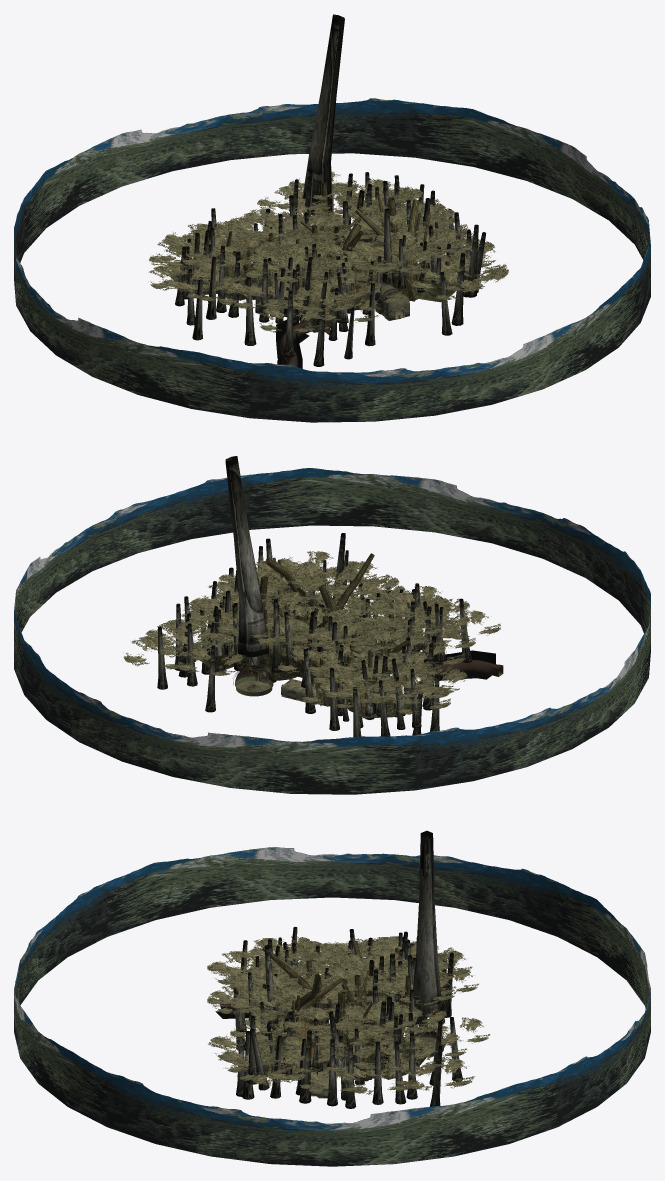
3 views of the same model, one above another, from view 1: azimuth 30°, elevation 25°; view 2: azimuth 150°, elevation 25°; view 3: azimuth 270°, elevation 25° (orthographic).
Visible parts, largest first — view 1: Chunk-39_Mesh-0, Object-94_Mesh-0, Chunk-12_Mesh-0, Chunk-14_Mesh-0, Chunk-15_Mesh-0, Chunk-63_Mesh-0, Object-128_Mesh-0, Object-168_Mesh-0; view 2: Chunk-39_Mesh-0, Object-94_Mesh-0, Chunk-12_Mesh-0, Chunk-14_Mesh-0, Object-218_Mesh-0, Chunk-15_Mesh-0, Object-208_Mesh-0, Object-161_Mesh-0, Object-217_Mesh-0, Chunk-63_Mesh-0, Object-169_Mesh-0, Chunk-22_Mesh-0 (+7 smaller); view 3: Chunk-39_Mesh-0, Object-94_Mesh-0, Chunk-12_Mesh-0, Object-208_Mesh-0, Chunk-14_Mesh-0, Chunk-15_Mesh-0, Object-210_Mesh-0, Object-128_Mesh-0, Object-155_Mesh-0, Object-217_Mesh-0, Object-161_Mesh-0, Object-122_Mesh-0 (+6 smaller).
Part boxes in pixels (<box>): Chunk-39_Mesh-0: <box>14,98,650,422</box>; Object-94_Mesh-0: <box>301,14,344,215</box>; Chunk-12_Mesh-0: <box>225,181,430,308</box>; Chunk-14_Mesh-0: <box>225,225,419,332</box>; Chunk-15_Mesh-0: <box>169,219,458,308</box>; Chunk-63_Mesh-0: <box>276,315,309,368</box>; Object-128_Mesh-0: <box>391,229,450,256</box>; Object-168_Mesh-0: <box>258,307,318,332</box>; Chunk-39_Mesh-0: <box>14,468,650,794</box>; Object-94_Mesh-0: <box>225,456,268,657</box>; Chunk-12_Mesh-0: <box>260,553,409,694</box>; Chunk-14_Mesh-0: <box>244,612,402,711</box>; Object-218_Mesh-0: <box>284,561,354,609</box>; Chunk-15_Mesh-0: <box>194,596,420,718</box>; Object-208_Mesh-0: <box>123,636,201,669</box>; Object-161_Mesh-0: <box>178,648,242,675</box>; Object-217_Mesh-0: <box>259,571,328,600</box>; Chunk-63_Mesh-0: <box>416,650,495,680</box>; Object-169_Mesh-0: <box>384,592,448,619</box>; Chunk-22_Mesh-0: <box>426,661,503,676</box>; Chunk-39_Mesh-0: <box>14,847,650,1166</box>; Object-94_Mesh-0: <box>413,830,442,1017</box>; Chunk-12_Mesh-0: <box>262,941,411,1068</box>; Object-208_Mesh-0: <box>394,1056,474,1090</box>; Chunk-14_Mesh-0: <box>278,985,446,1080</box>; Chunk-15_Mesh-0: <box>255,991,426,1080</box>; Object-210_Mesh-0: <box>339,1061,418,1094</box>; Object-128_Mesh-0: <box>231,988,296,1016</box>; Object-155_Mesh-0: <box>242,1047,306,1085</box>; Object-217_Mesh-0: <box>278,984,350,1015</box>; Object-161_Mesh-0: <box>425,1017,490,1045</box>; Object-122_Mesh-0: <box>284,1007,352,1036</box>.
Size of the model in its own units: 28000 by 12505 by 28000.
Materials: 19 (19 with a texture image).
